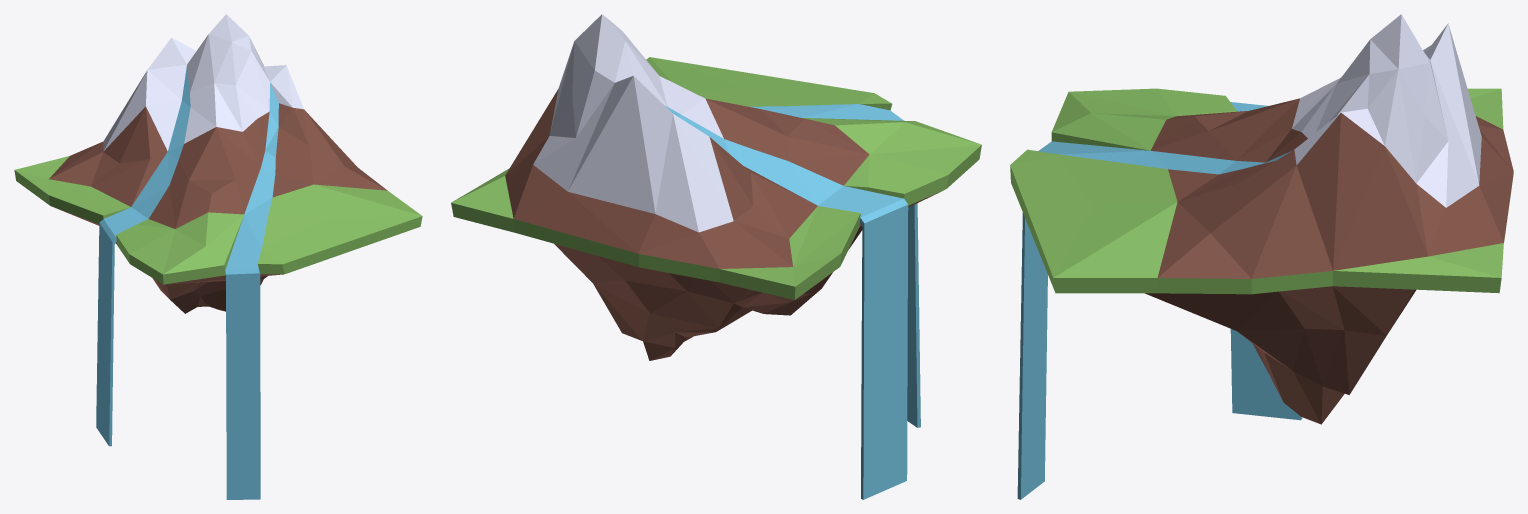
The model's file is Island14_tex.fbx.
3 views of the same model, side by side, from view 1: azimuth 30°, elevation 25°; view 2: azimuth 150°, elevation 25°; view 3: azimuth 270°, elevation 25° (orthographic). The views are drawn at different scales.
Parts seen in each view (by area): view 1: Island14_tex; view 2: Island14_tex; view 3: Island14_tex.
Part boxes in pixels (x1,y1,x2,y2): Island14_tex: (14,14,422,499); Island14_tex: (451,14,981,499); Island14_tex: (1010,14,1513,499).
Bounding box in the file's own units: 4.74 × 6.43 × 5.3.
